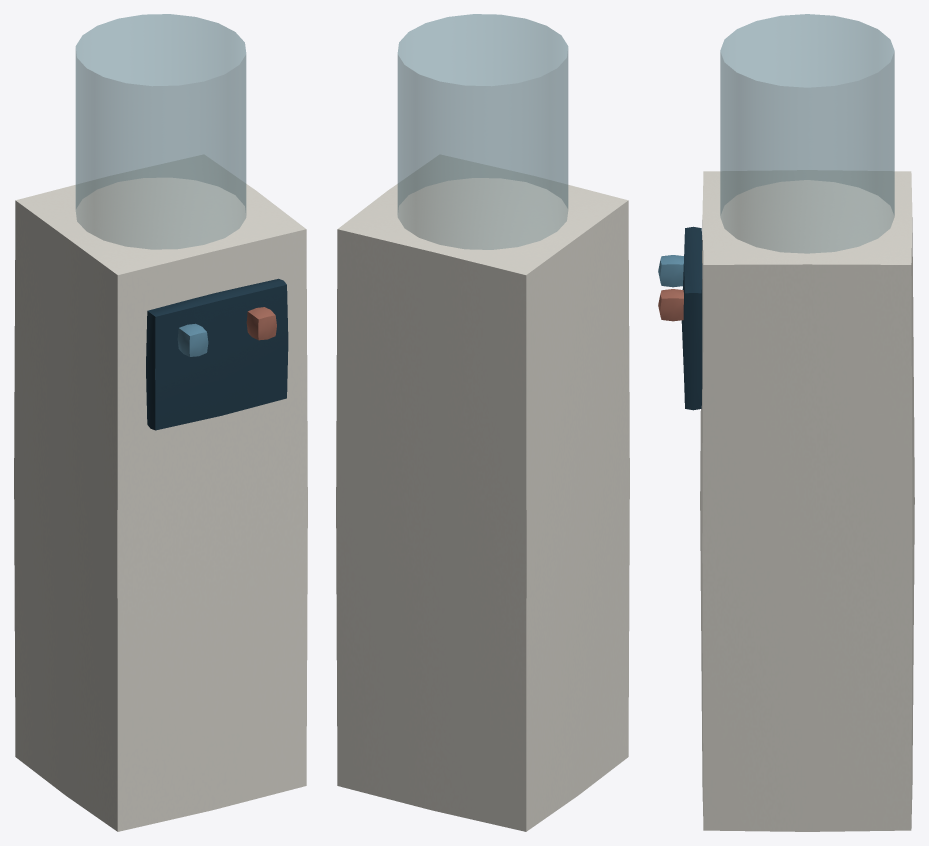
File: water-dispenser.glb
3 views of the same model, side by side, from view 1: azimuth 30°, elevation 25°; view 2: azimuth 150°, elevation 25°; view 3: azimuth 270°, elevation 25° (orthographic).
Parts seen in each view (by area): view 1: water-dispenser; view 2: water-dispenser; view 3: water-dispenser.
Boxes of the visible parts, box(x1,y1,x2,y2) form: water-dispenser: box(14, 14, 307, 831); water-dispenser: box(336, 14, 629, 831); water-dispenser: box(658, 14, 914, 831).
Size of the model in its own units: 0.34 by 1.21 by 0.3825.
5 materials, 5 textured.
